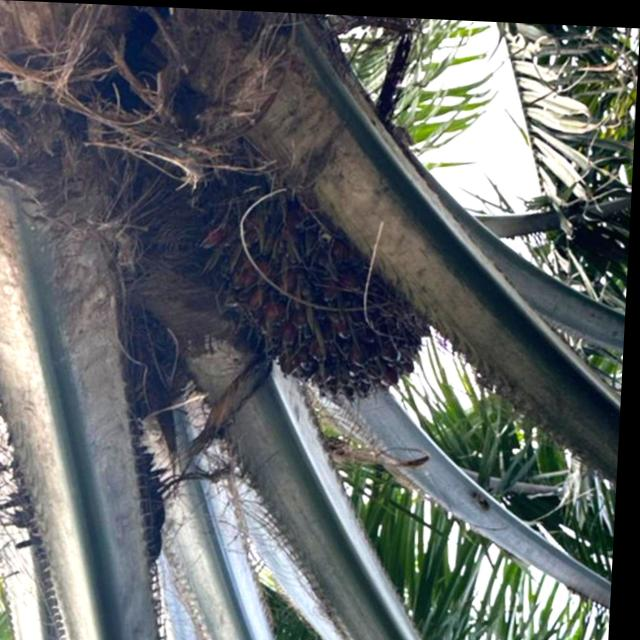ripe: (195, 157, 447, 420)
